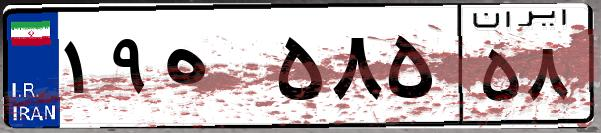1: (57, 26, 110, 100)
5: (270, 28, 330, 110), (385, 28, 445, 110), (475, 38, 525, 113)
8: (330, 28, 385, 110), (525, 38, 570, 115)
9: (110, 28, 158, 98)
ه: (158, 20, 270, 120)
